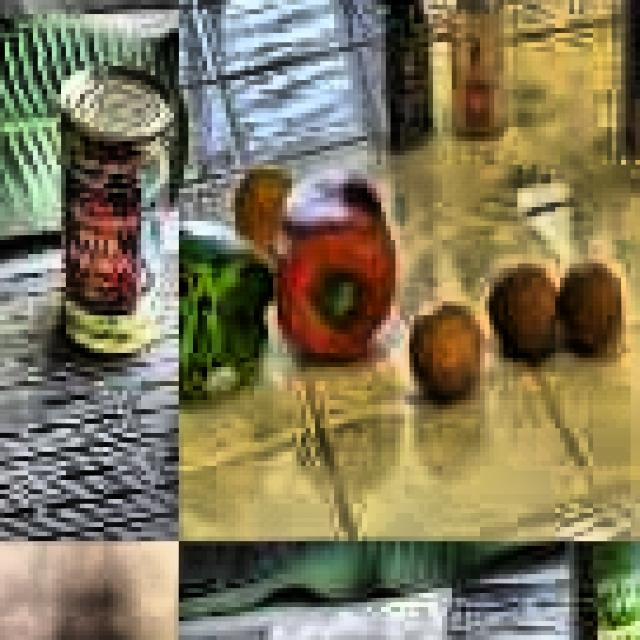bell_pepper: (264, 169, 414, 372), (179, 226, 282, 409)
egg: (405, 296, 482, 404), (490, 254, 562, 365), (560, 254, 626, 360)
